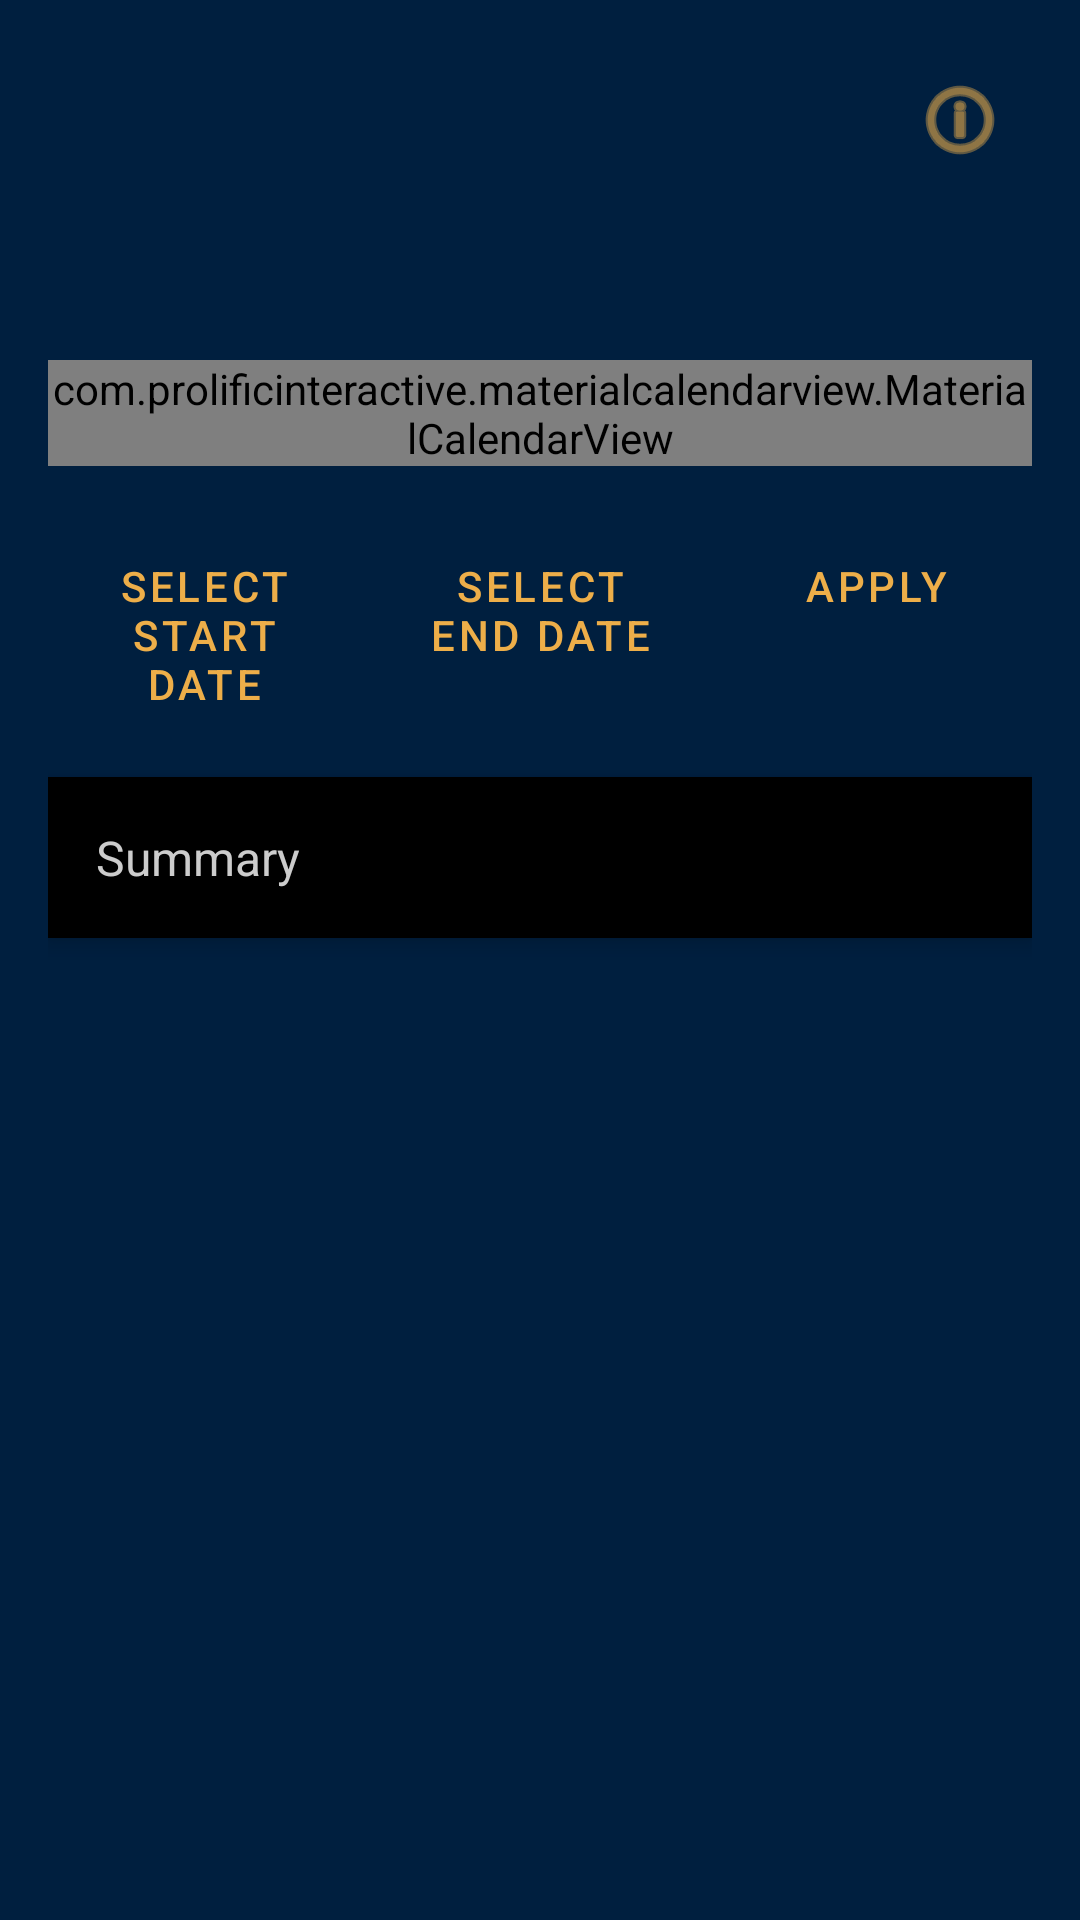

Screen size 1080 x 1920. Icon name, then its center in pixels as point (x, y):
Legend: point (960, 120)
